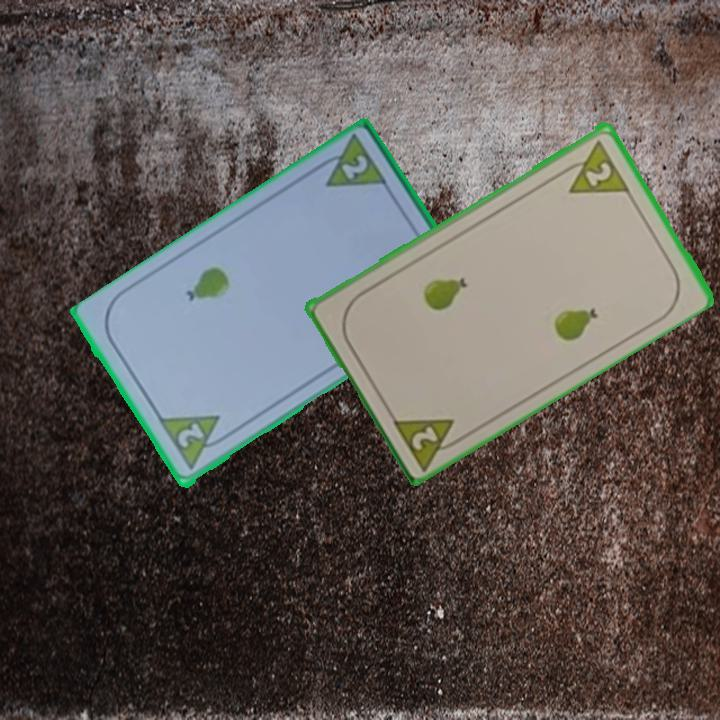2p: (388, 413, 469, 472), (555, 135, 632, 197), (311, 133, 391, 191), (173, 420, 207, 452)
